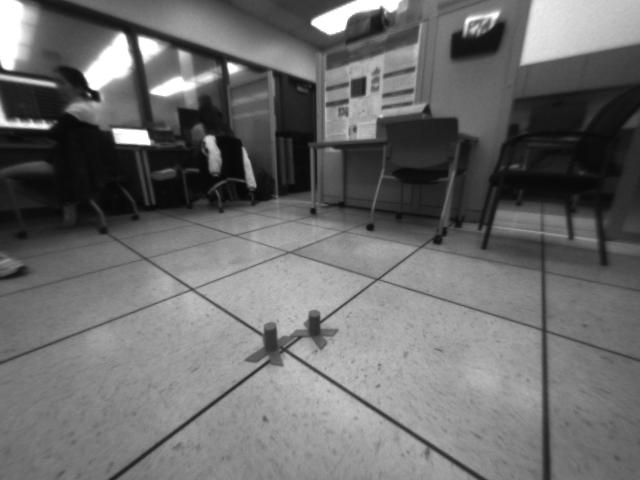X: (242, 320, 296, 369), (290, 308, 339, 351)
